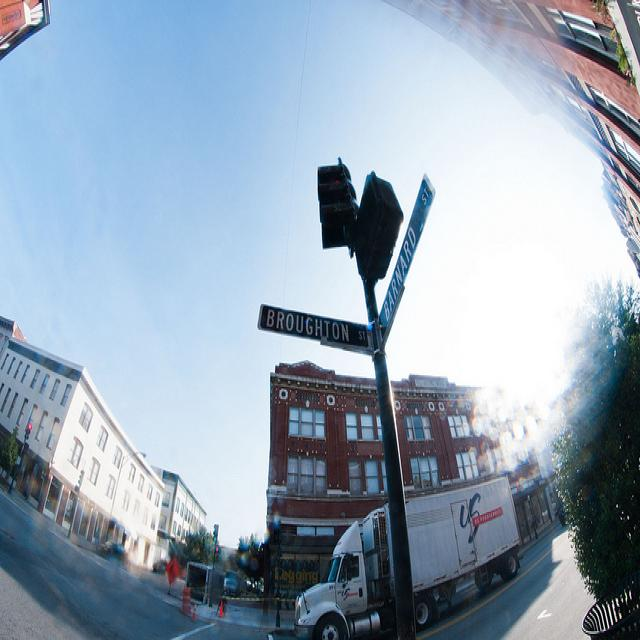Vehicle: (292, 475, 521, 633), (186, 560, 223, 604)
